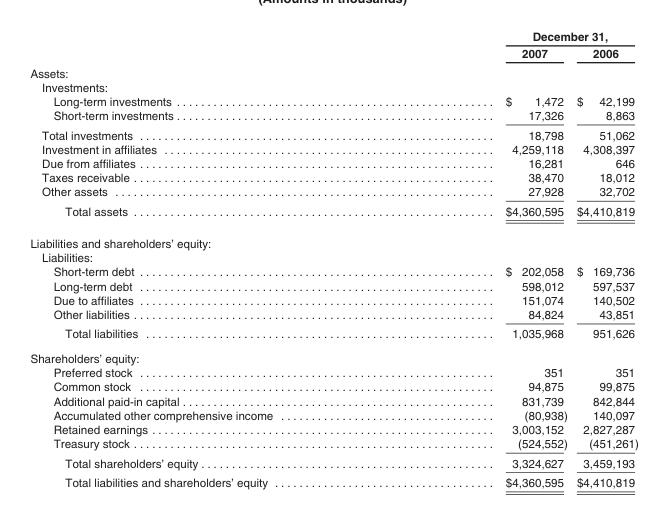table: (29, 29, 637, 488)
table column: (29, 29, 388, 488), (388, 29, 571, 488), (571, 29, 637, 488)
table column header: (29, 29, 637, 62)
table projected row header: (29, 226, 637, 250), (29, 345, 637, 365), (29, 62, 637, 79), (29, 79, 637, 93), (29, 250, 637, 264)
table row: (29, 200, 637, 226), (29, 226, 637, 250), (29, 323, 637, 345), (29, 345, 637, 365), (29, 452, 637, 472), (29, 44, 637, 62), (29, 62, 637, 79), (29, 107, 637, 124), (29, 124, 637, 141), (29, 306, 637, 323), (29, 184, 637, 200), (29, 436, 637, 452), (29, 472, 637, 488), (29, 29, 637, 44), (29, 169, 637, 184), (29, 421, 637, 436), (29, 79, 637, 93), (29, 93, 637, 107), (29, 141, 637, 155), (29, 155, 637, 169), (29, 250, 637, 264), (29, 264, 637, 278), (29, 278, 637, 292), (29, 292, 637, 306), (29, 365, 637, 379), (29, 379, 637, 393), (29, 393, 637, 407), (29, 407, 637, 421)
table spanning cell: (388, 29, 637, 44)
